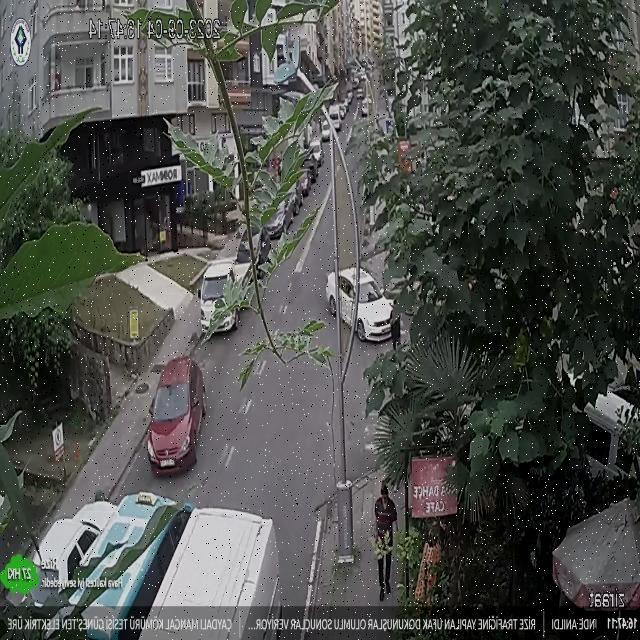Car: (144, 356, 209, 478), (325, 267, 401, 343)
Truck: (196, 261, 254, 335)
Van: (54, 491, 195, 640), (136, 507, 278, 640)
